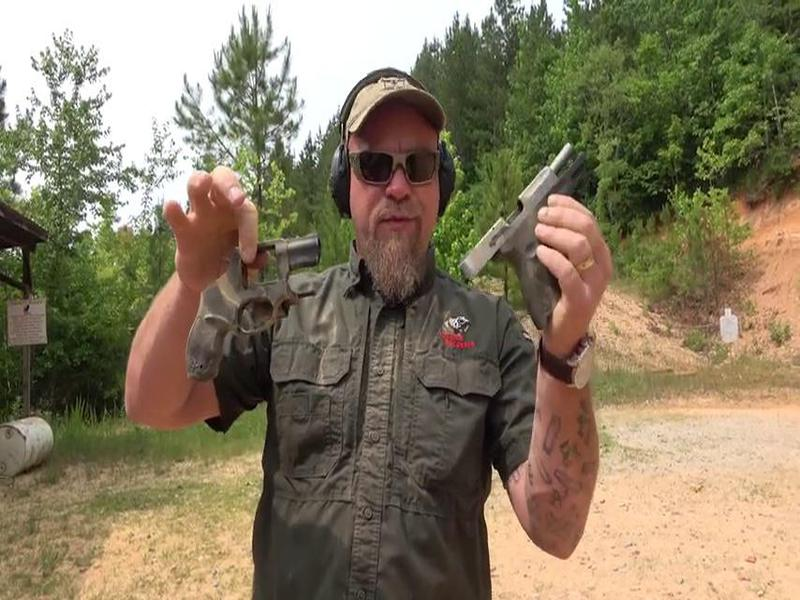Pistola: (453, 139, 616, 340)
Revolver: (169, 217, 352, 399)
